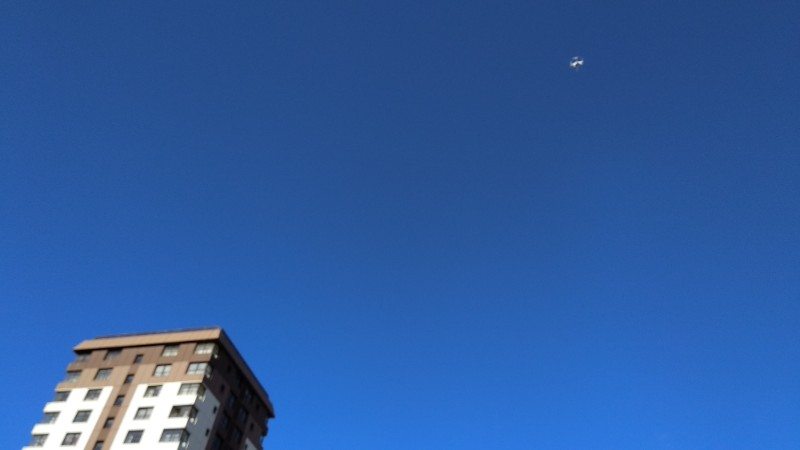drone: (569, 55, 585, 71)
